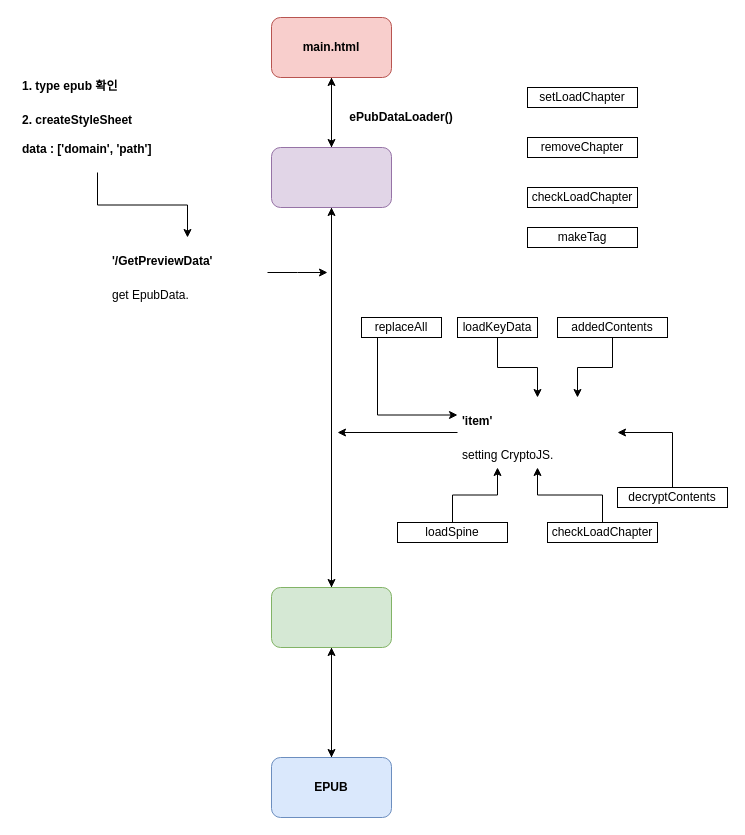
Image size: 745x835. Some labels were removed from this diagram. The box of each missing label's shape, as (x1, y1, x2, y2) in pixels:
Node: (270, 586, 392, 648)
viewer_loader.js: (270, 146, 392, 208)
